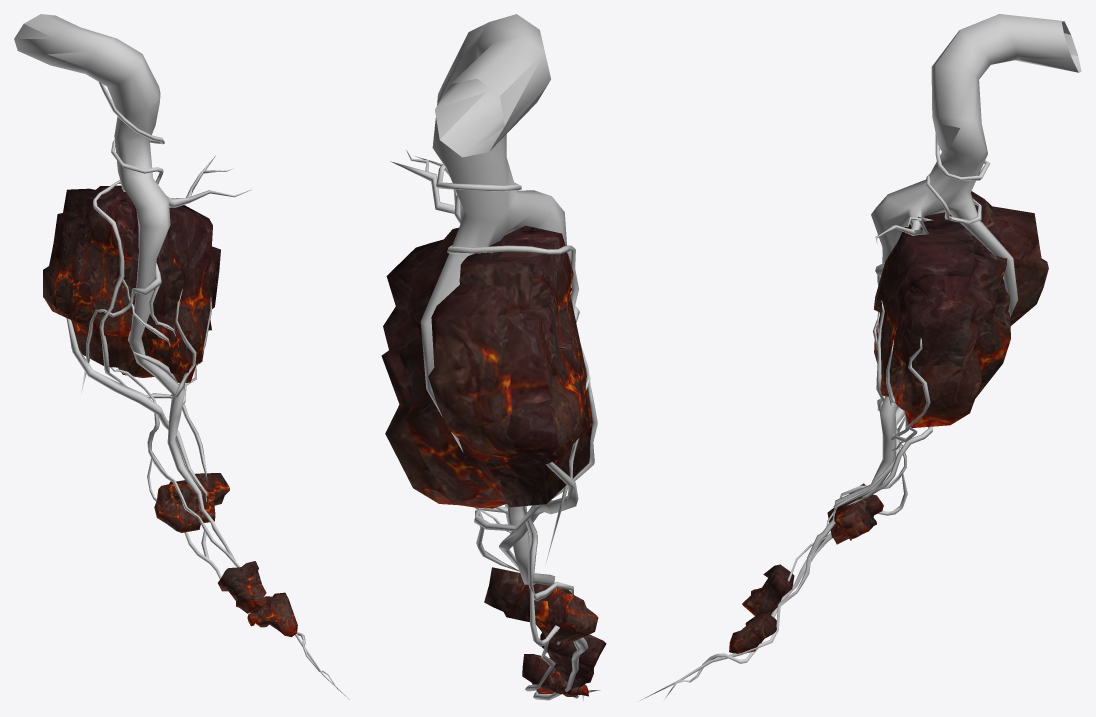
Rendered from S_Tree_Red035.FBX.
The picture shows the model from 3 angles, left to right: view 1: azimuth 30°, elevation 25°; view 2: azimuth 150°, elevation 25°; view 3: azimuth 270°, elevation 25°; orthographic projection. The views are drawn at different scales.
Parts seen in each view (by area): view 1: S_Tree_Red035; view 2: S_Tree_Red035; view 3: S_Tree_Red035.
Boxes of the visible parts, x1,y1,x2,y2 form: S_Tree_Red035: (14,14,349,699); S_Tree_Red035: (381,14,606,701); S_Tree_Red035: (640,14,1081,700).
Bounding box in the file's own units: 628 × 1433 × 2226.
